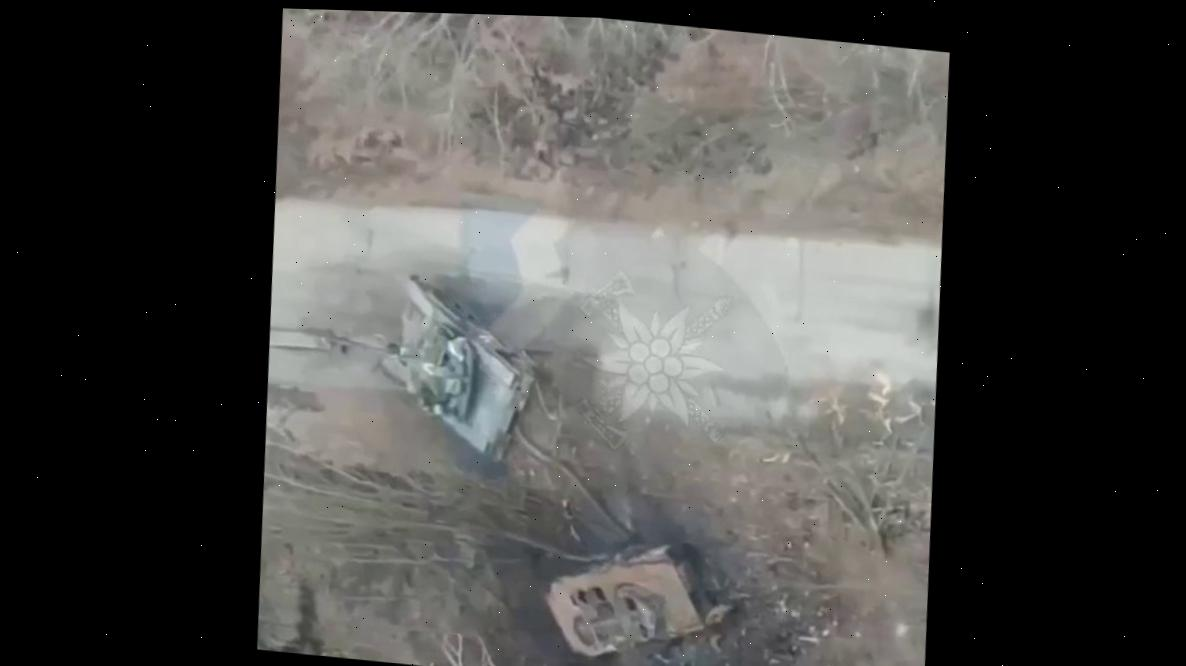tank: (314, 265, 548, 467), (539, 522, 729, 666)
